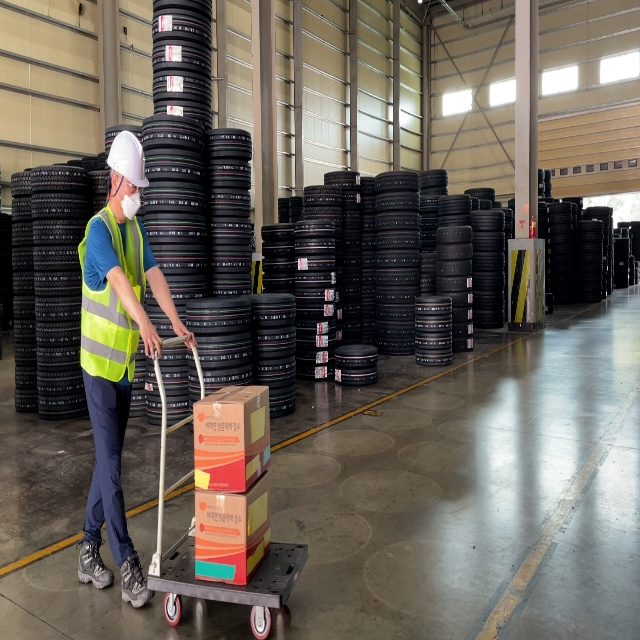Box: (194, 468, 271, 586), (192, 384, 271, 493)
Worker: (78, 129, 198, 609)
